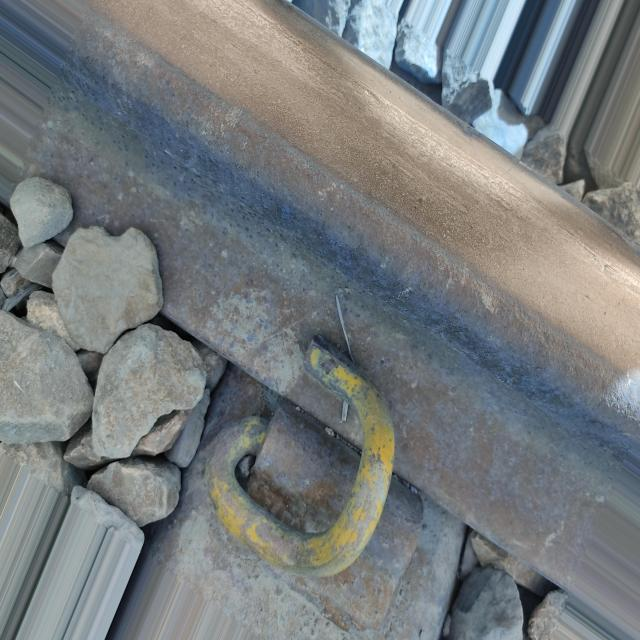Good Fasteners: (184, 324, 456, 640)
